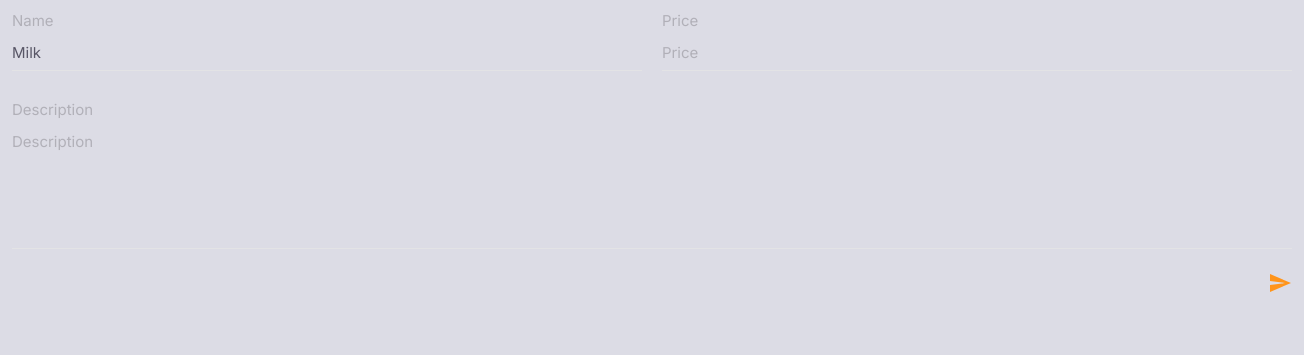
ItemForm › shows validation error when price is invalid
Type "-2" into the number field labelled "Price" at (977, 58), box [662,44,1292,71]
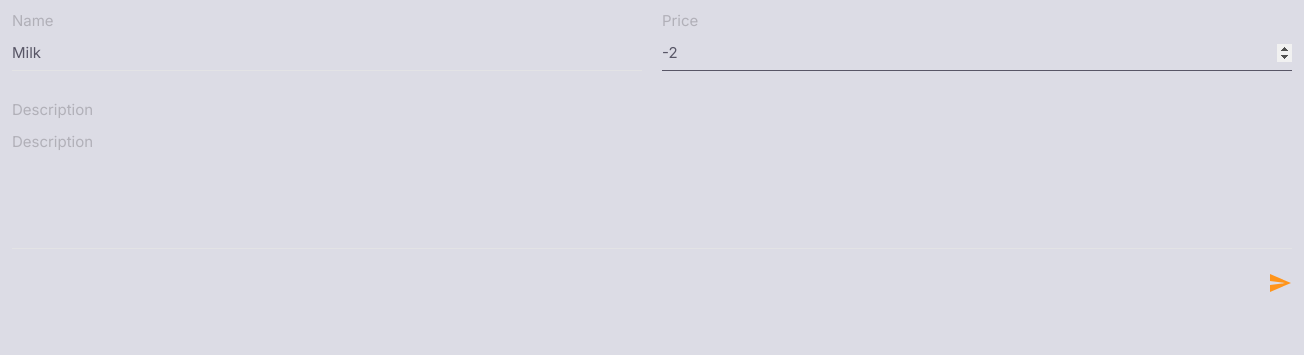
Submit the form named "Save"
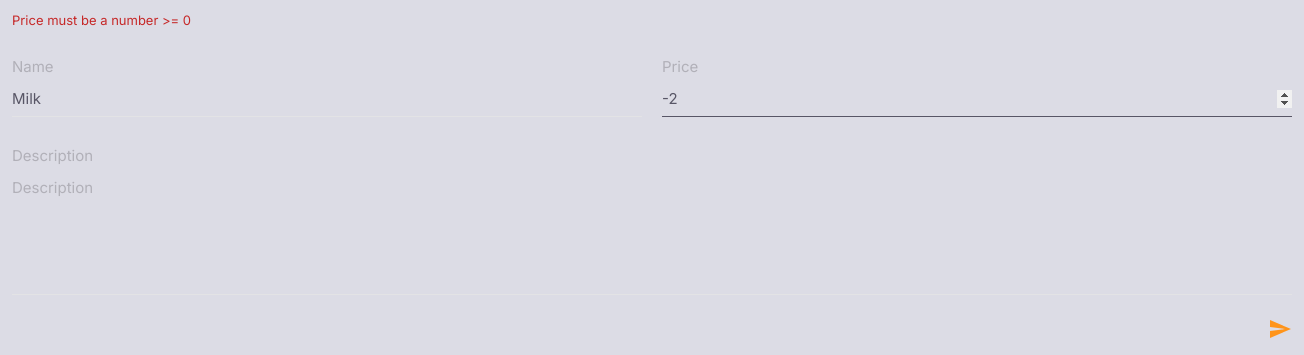
Expected: the text "Price must be a number >= 0" is shown, [12,12,191,28]
